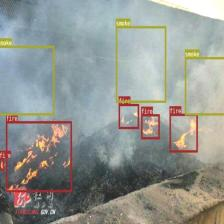fire: (5, 121, 72, 192), (169, 113, 198, 152), (118, 104, 139, 128), (141, 114, 159, 139), (0, 158, 4, 170)
smoke: (115, 26, 166, 102), (0, 45, 54, 115), (184, 57, 224, 114)
